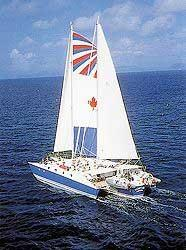Ship: (29, 16, 161, 201)
